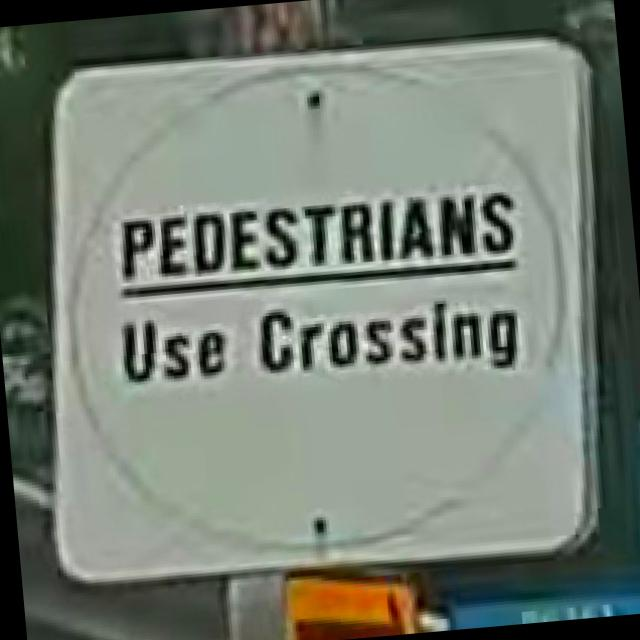pedestriancrossing_sign: (7, 18, 634, 601)
